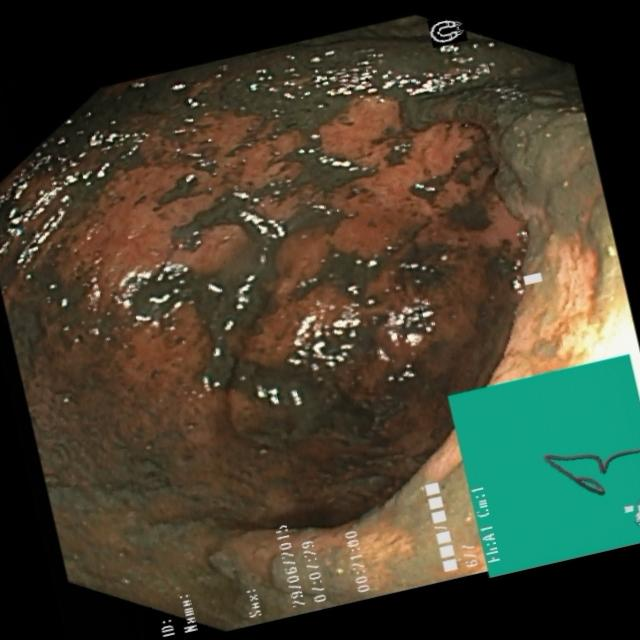ulcerative-colities: (0, 16, 638, 629)
